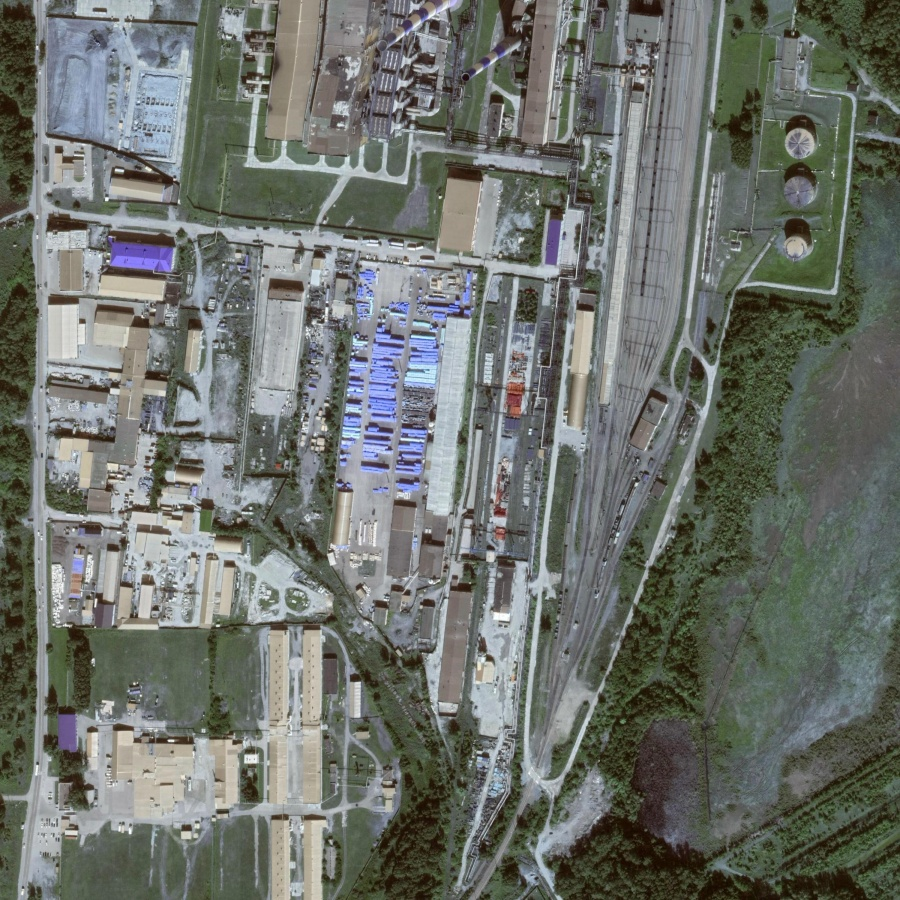PowerPlant: (706, 101, 854, 276)
